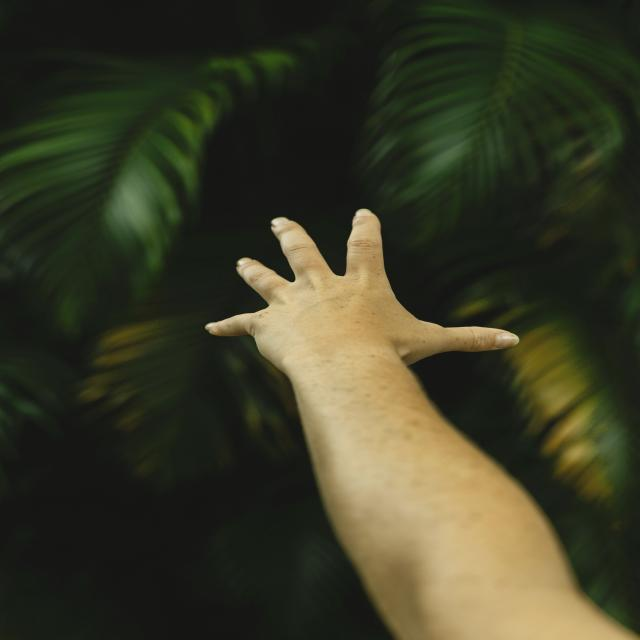piel: (201, 209, 640, 640)
